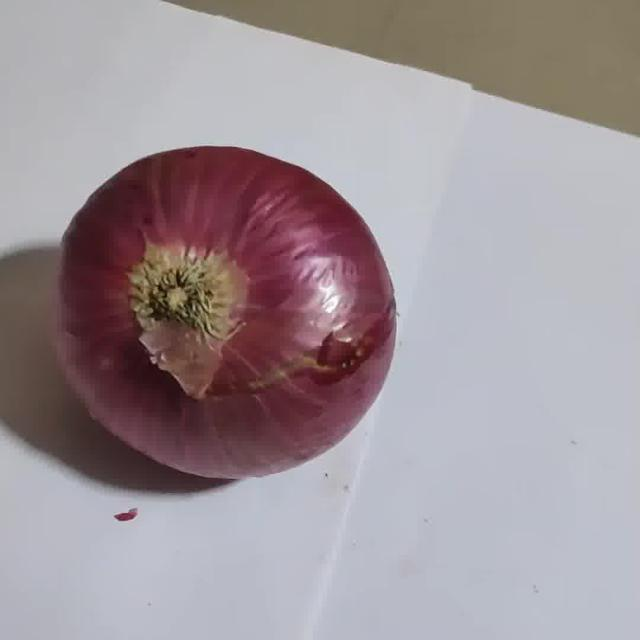Onion: (59, 147, 395, 479)
